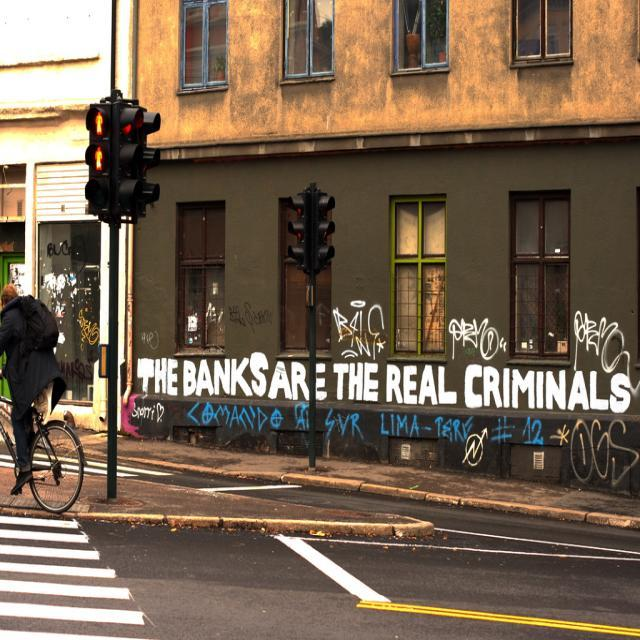traffic light: (85, 101, 116, 211), (117, 105, 145, 212)
